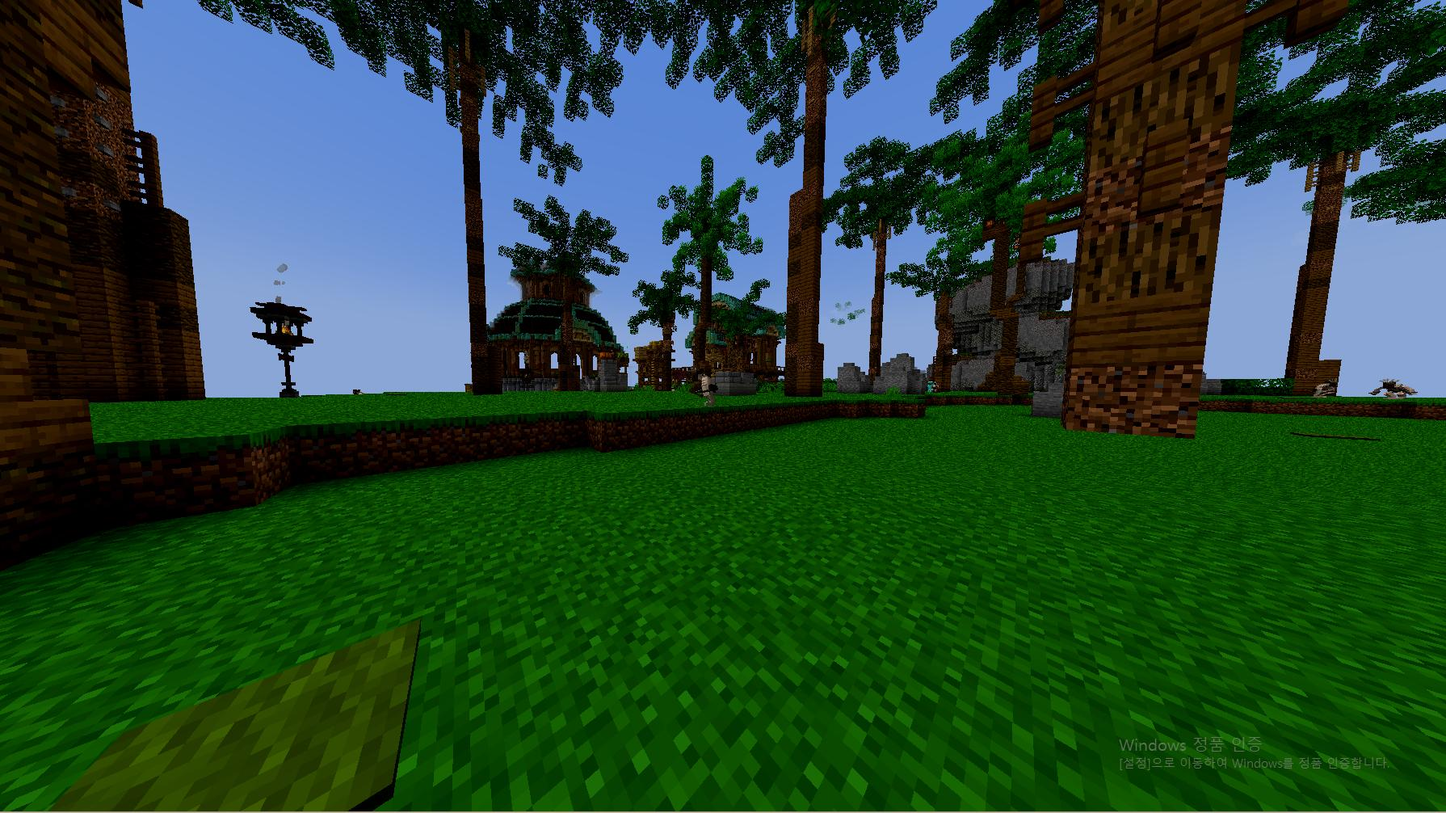bow_indian: (683, 360, 727, 415)
